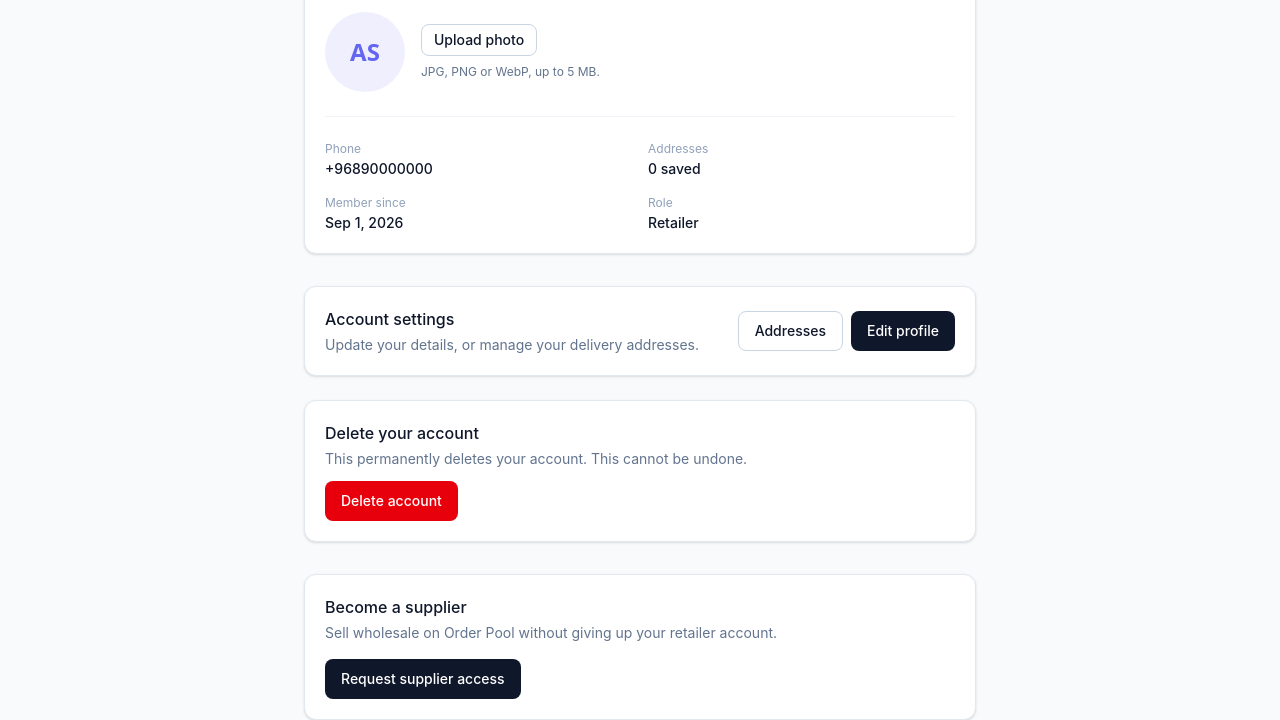
Test: ProfilePage (retailer) — filing a supplier request › requires a commercial registration number before submitting
(page scrolled)
Click the button "Request supplier access": [423, 679] box [325,659,521,699]
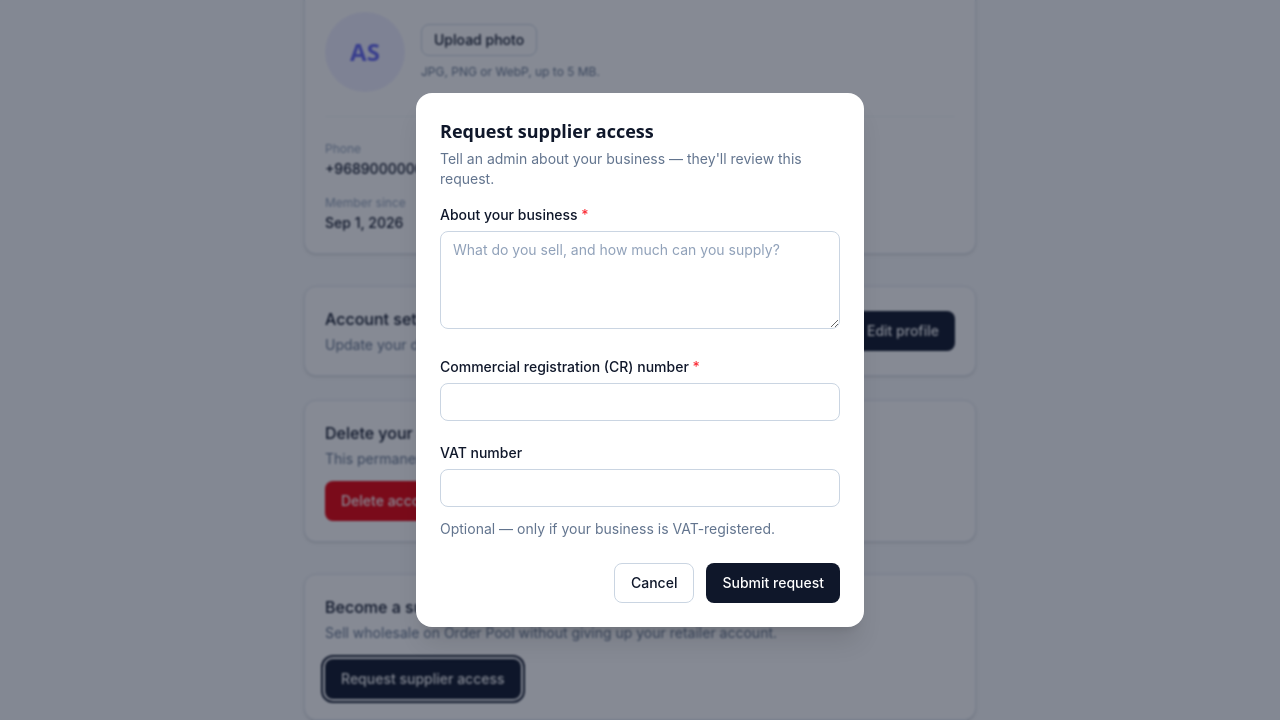
In the text box labelled "About your business *": [640, 280] box [440,231,840,329], type "Spice trader"
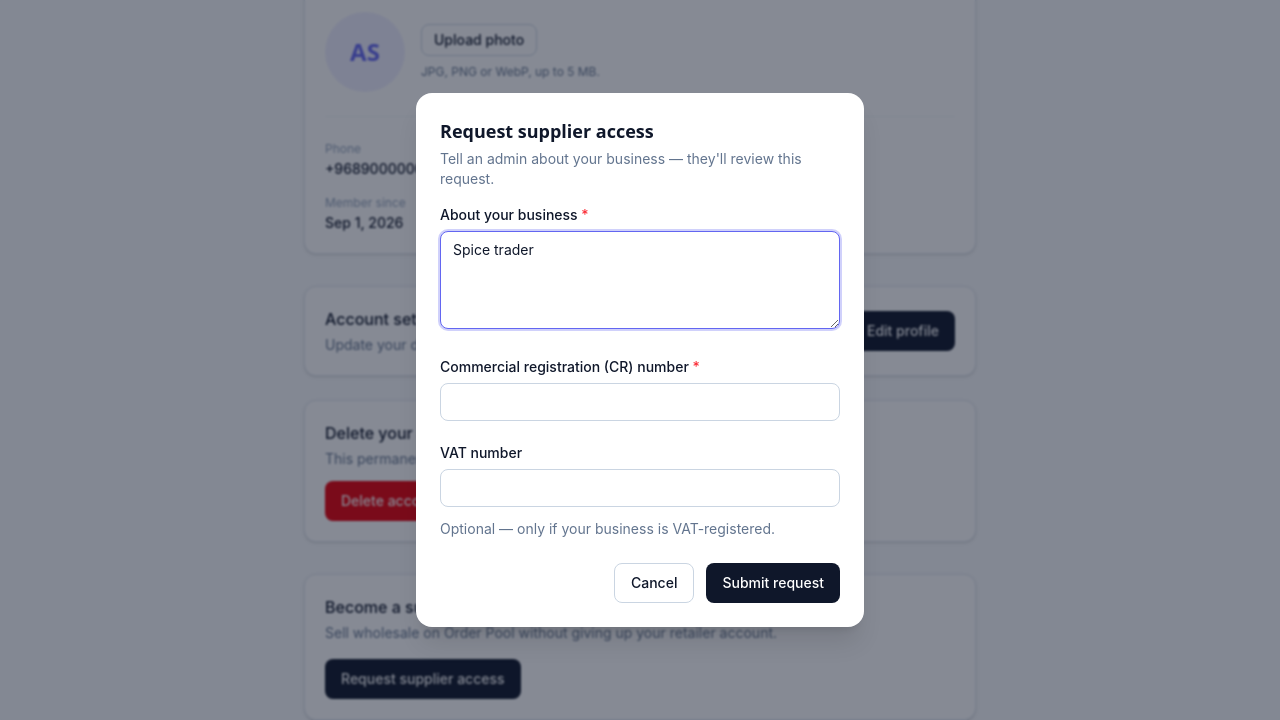
Click the button "Submit request": [773, 583] box [706,563,840,603]
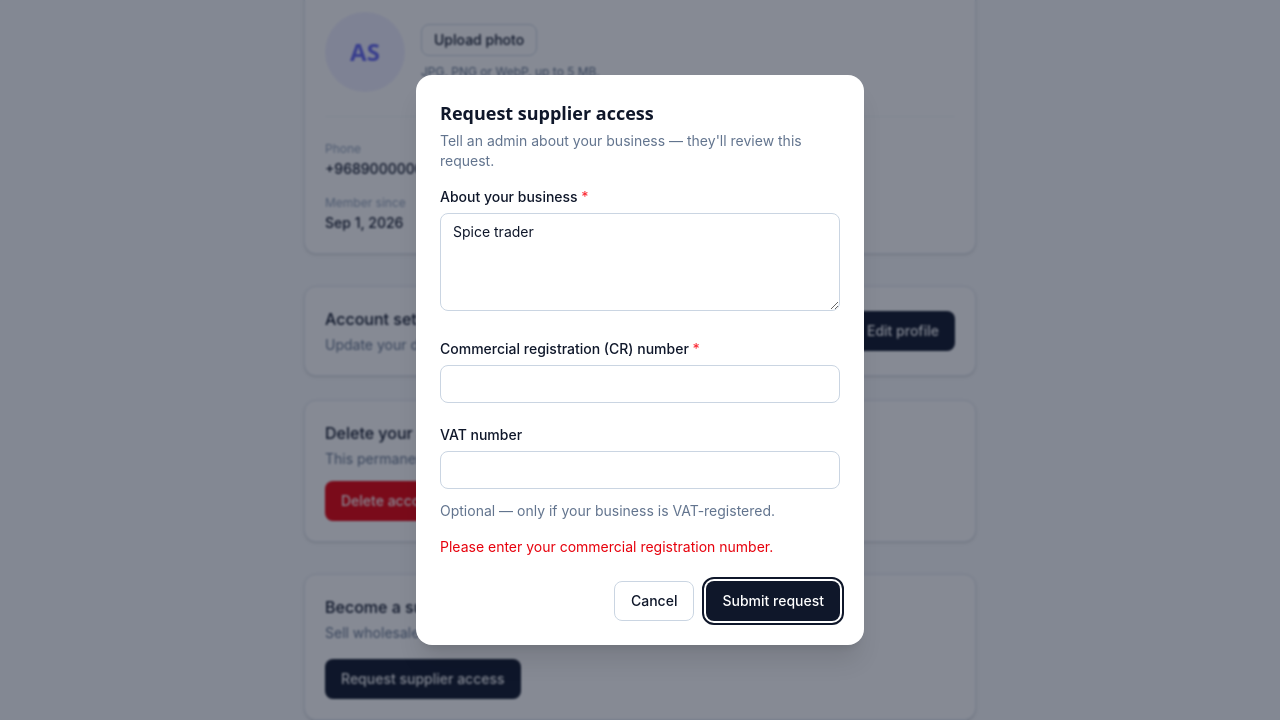
Expected: the text "Please enter your commercial registration number." is shown, [440,538,773,555]
